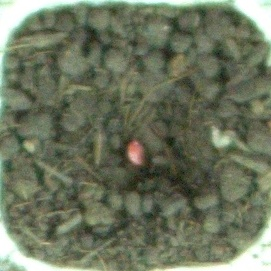chilli seed: (123, 136, 153, 169)
